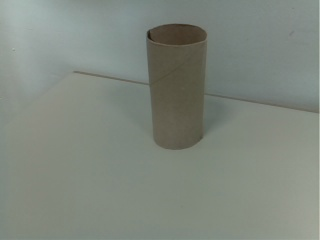rollo papel: (145, 21, 210, 152)
